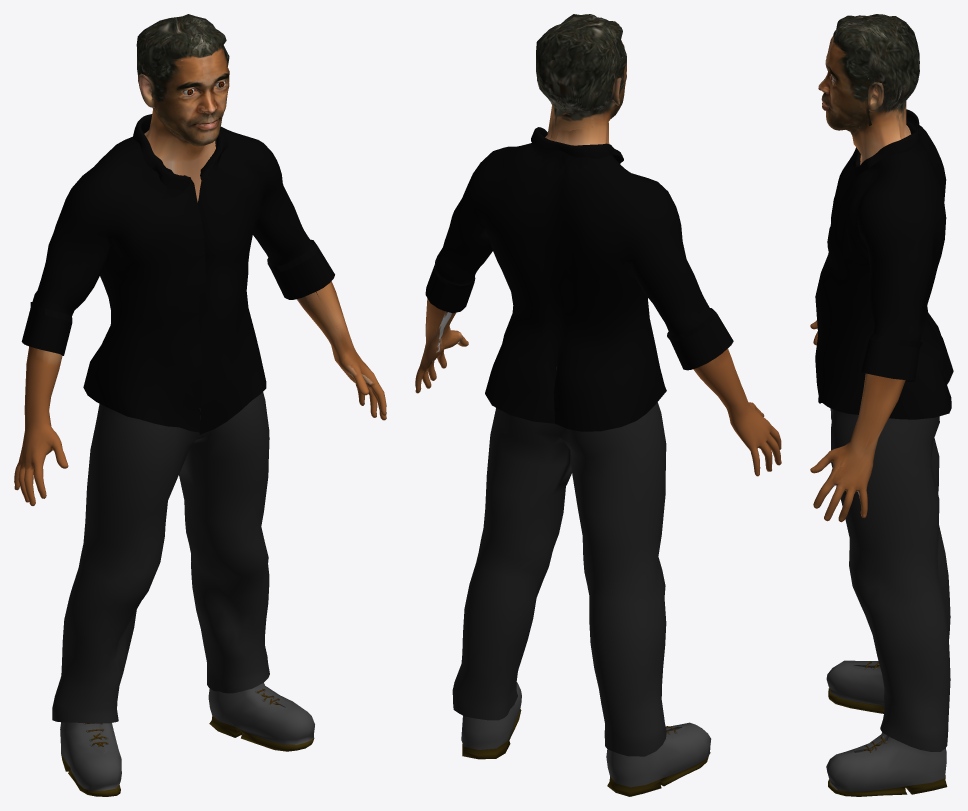
Rendered from morshd 4.glb.
The picture shows the model from 3 angles, left to right: view 1: azimuth 30°, elevation 25°; view 2: azimuth 150°, elevation 25°; view 3: azimuth 270°, elevation 25°; orthographic projection.
Parts seen in each view (by area): view 1: SHIRT.002, pants.001, charctr1.001, Cube.002; view 2: SHIRT.002, pants.001, charctr1.001, Cube.002; view 3: SHIRT.002, pants.001, charctr1.001, Cube.002.
Boxes of the visible parts, x1,y1,x2,y2 form: SHIRT.002: (21,114,334,434); pants.001: (52,392,269,723); charctr1.001: (14,14,386,505); Cube.002: (60,683,314,796); SHIRT.002: (425,127,733,431); pants.001: (452,367,666,756); charctr1.001: (415,14,781,476); Cube.002: (461,682,711,796); SHIRT.002: (815,109,953,419); pants.001: (830,408,950,751); charctr1.001: (810,14,919,522); Cube.002: (826,660,947,796).
Size of the model in its own units: 7.85 by 15.51 by 2.77.
7 materials, 2 textured.
